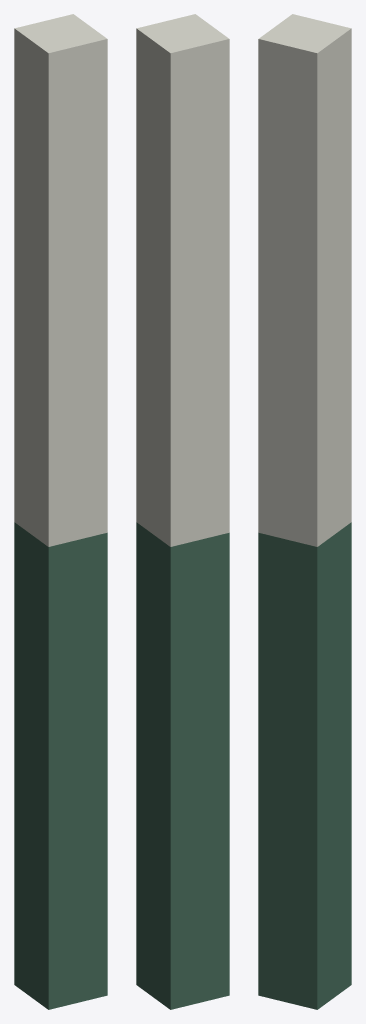
The model's file is hosp_wall_corner.glb.
3 views of the same model, side by side, from view 1: azimuth 30°, elevation 25°; view 2: azimuth 210°, elevation 25°; view 3: azimuth 330°, elevation 25° (orthographic).
Visible parts, largest first — view 1: hosp_wall_corner-col; view 2: hosp_wall_corner-col; view 3: hosp_wall_corner-col.
Part boxes in pixels (x1=…): hosp_wall_corner-col: x1=14, y1=14, x2=107, y2=1009; hosp_wall_corner-col: x1=136, y1=14, x2=229, y2=1009; hosp_wall_corner-col: x1=258, y1=14, x2=351, y2=1009.
Bounding box in the file's own units: 0.2 × 3.1 × 0.2.
